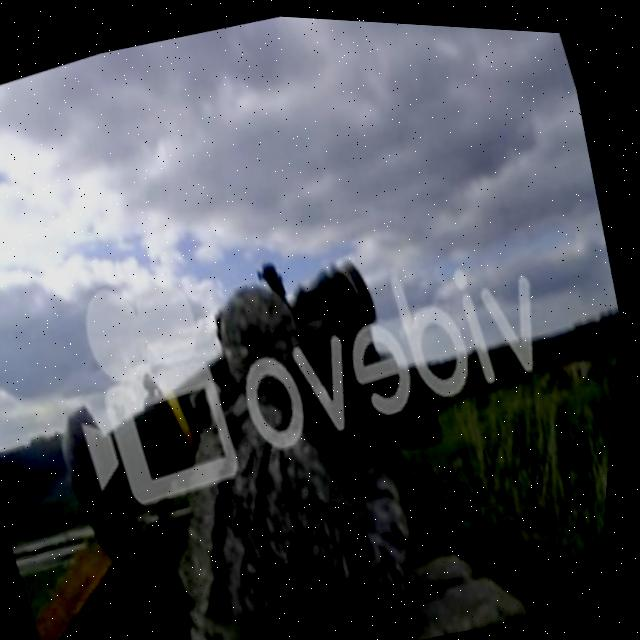rocket: (17, 227, 445, 576)
